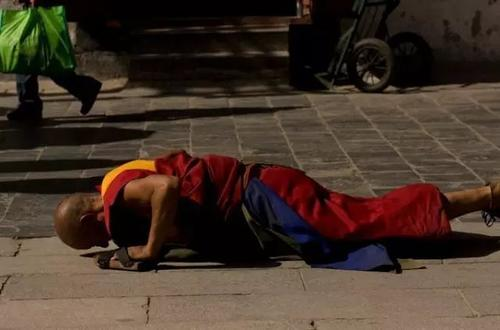fall: (55, 145, 493, 279)
